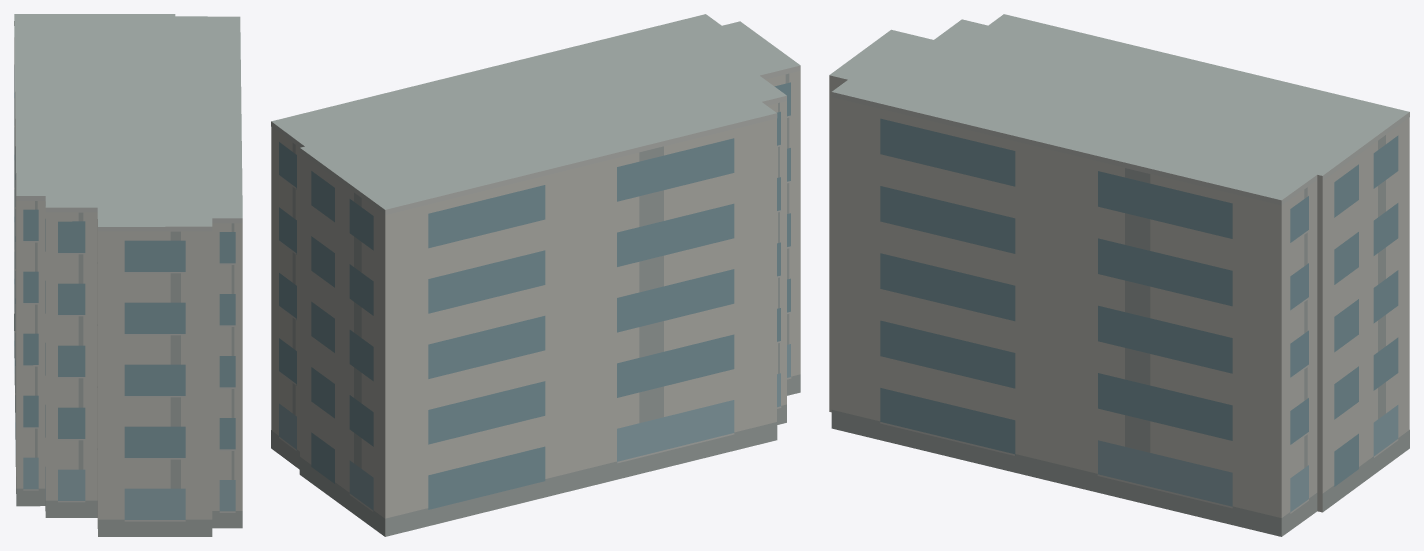
The model's file is survey-upis-32762981.glb.
The picture shows the model from 3 angles, left to right: view 1: azimuth 30°, elevation 25°; view 2: azimuth 150°, elevation 25°; view 3: azimuth 270°, elevation 25°; orthographic projection. The views are drawn at different scales.
Parts seen in each view (by area): view 1: survey-upis-32762981.tmp; view 2: survey-upis-32762981.tmp; view 3: survey-upis-32762981.tmp.
Boxes of the visible parts, <box> form: survey-upis-32762981.tmp: <box>14,14,242,536</box>; survey-upis-32762981.tmp: <box>271,14,800,536</box>; survey-upis-32762981.tmp: <box>829,14,1409,536</box>.
Bounding box in the file's own units: 18.12 × 15.25 × 23.85.
